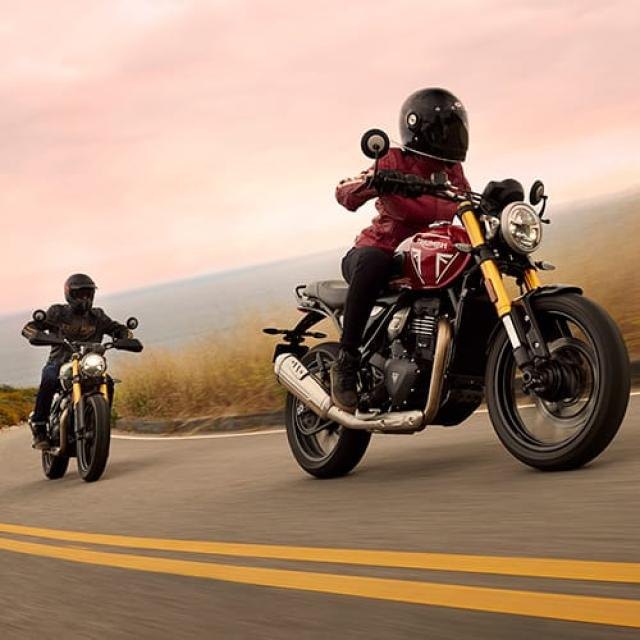motorcycle: (265, 89, 630, 478), (22, 274, 144, 482)
